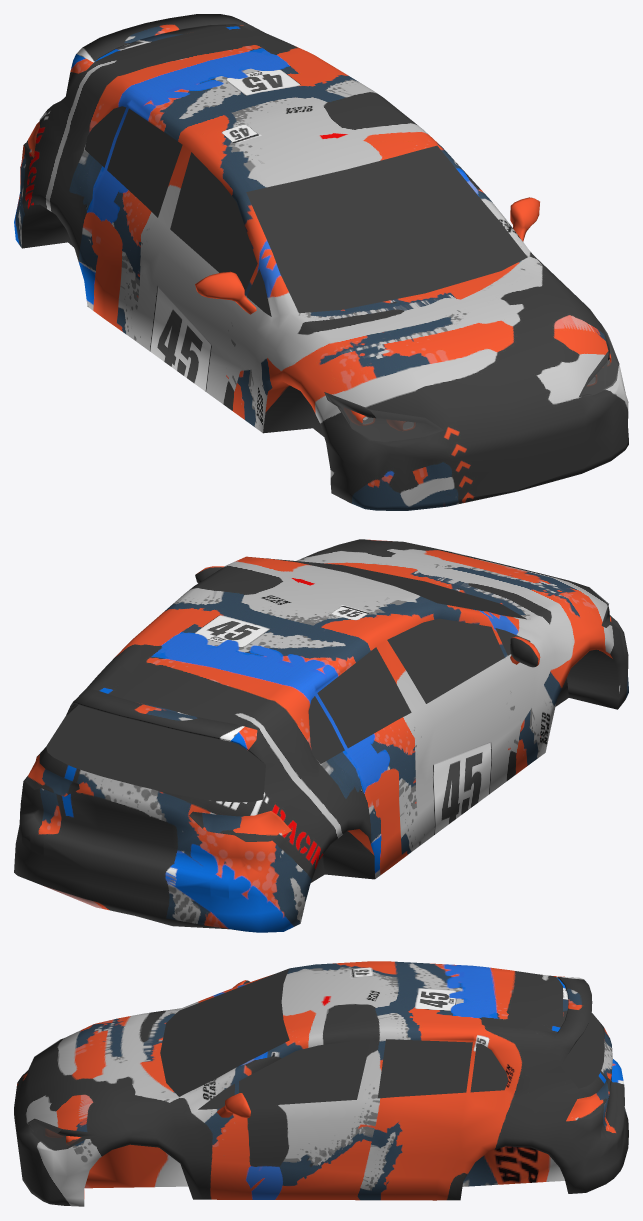
The model's file is car 3.fbx.
3 views of the same model, one above another, from view 1: azimuth 30°, elevation 25°; view 2: azimuth 150°, elevation 25°; view 3: azimuth 270°, elevation 25° (orthographic). The views are drawn at different scales.
Parts seen in each view (by area): view 1: body; view 2: body; view 3: body.
Part boxes in pixels (x1=…): body: x1=14, y1=14, x2=628, y2=510; body: x1=14, y1=539, x2=628, y2=932; body: x1=14, y1=961, x2=628, y2=1206.
Size of the model in its own units: 86.19 by 50.76 by 173.
